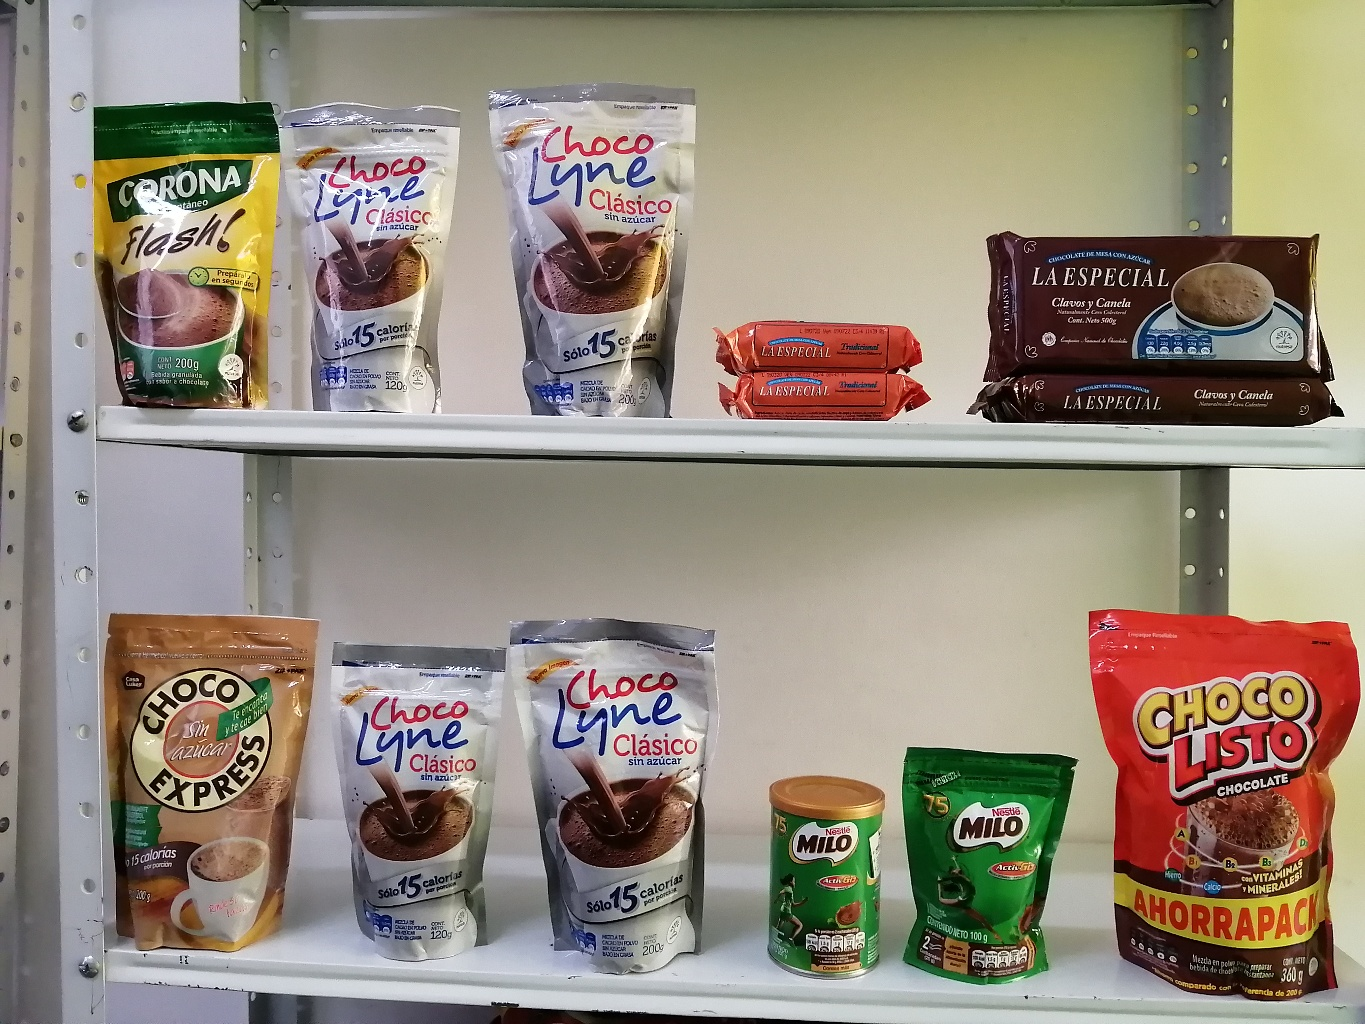COL0170103DYP36000: (1089, 596, 1361, 1001)
COL0170203DYP10000: (896, 728, 1086, 1006)
COL0170203LAT20000: (763, 759, 893, 982)
